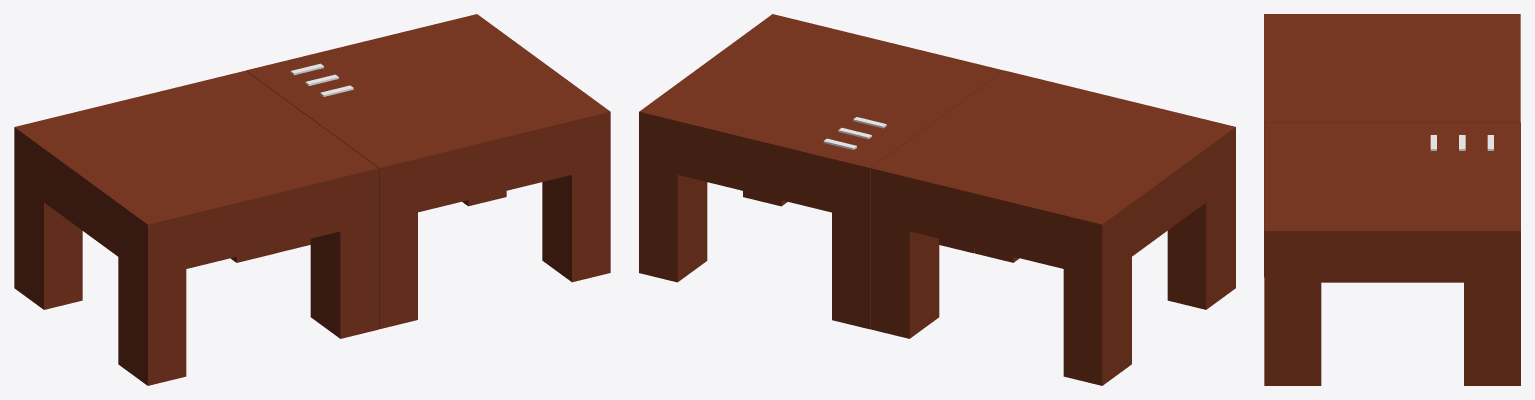
The model's file is keva_rearranged.dae.
3 renders of one model, left to right at view 1: azimuth 30°, elevation 25°; view 2: azimuth 150°, elevation 25°; view 3: azimuth 270°, elevation 25°, orthographic. The views are drawn at different scales.
Parts seen in each view (by area): view 1: base (×7); view 2: base (×7); view 3: base (×4).
Boxes of the visible parts, x1,y1,x2,y2 form: base (×7): (14, 14, 610, 385); base (×7): (639, 14, 1235, 385); base (×4): (1264, 14, 1520, 385).
Bounding box in the file's own units: 1.8 × 0.9009 × 0.6078.
